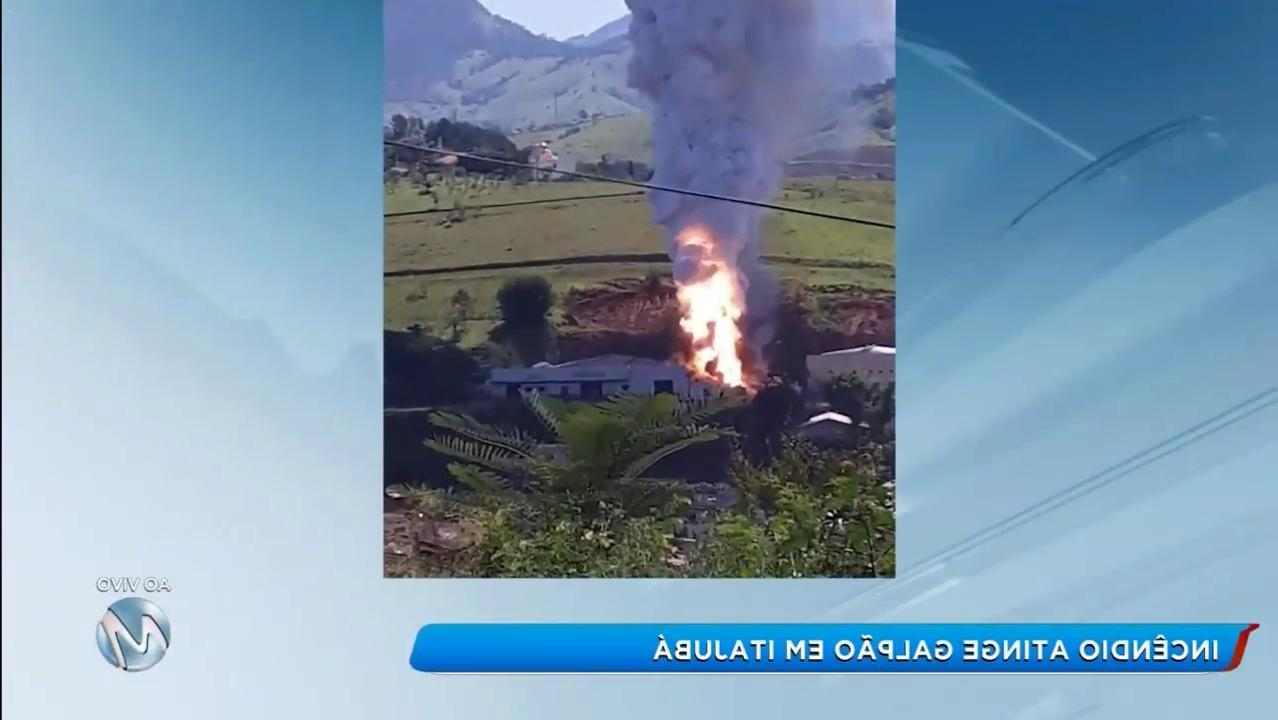Fire: (664, 215, 769, 398)
